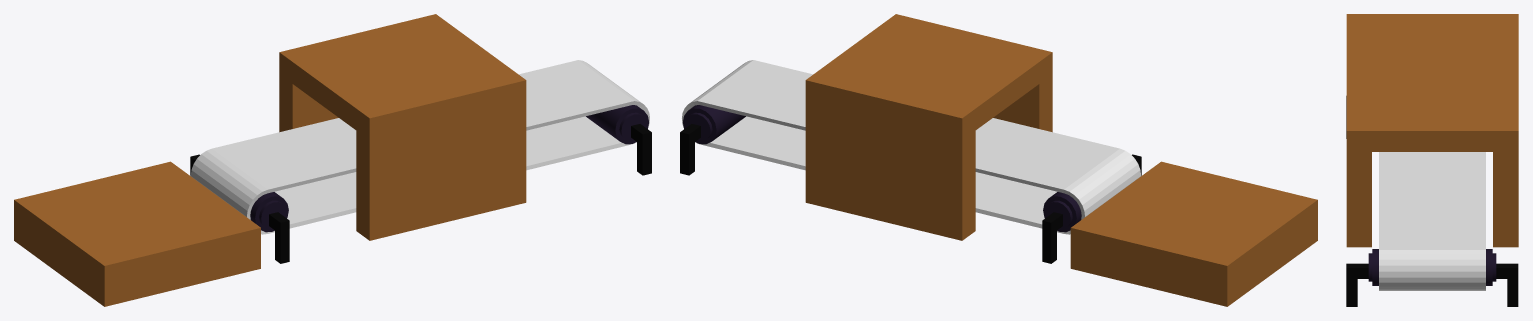
File: CookMachine.fbx
3 renders of one model, left to right at view 1: azimuth 30°, elevation 25°; view 2: azimuth 150°, elevation 25°; view 3: azimuth 270°, elevation 25°, orthographic. The views are drawn at different scales.
Visible parts, largest first — view 1: Куб, Lenta_Low, Cylinder, Cylinder.001; view 2: Куб, Lenta_Low, Cylinder, Cylinder.001; view 3: Куб, Lenta_Low, Cylinder.
Part boxes in pixels (x1,y1,x2,y2): Куб: (14,14,651,306); Lenta_Low: (190,60,649,234); Cylinder: (586,105,648,144); Cylinder.001: (250,192,288,232); Куб: (680,14,1317,306); Lenta_Low: (682,60,1141,234); Cylinder: (682,105,745,144); Cylinder.001: (1043,158,1134,232); Куб: (1346,14,1518,306); Lenta_Low: (1379,152,1485,290); Cylinder: (1368,249,1496,285).
Bounding box in the file's own units: 719 × 151 × 200.
